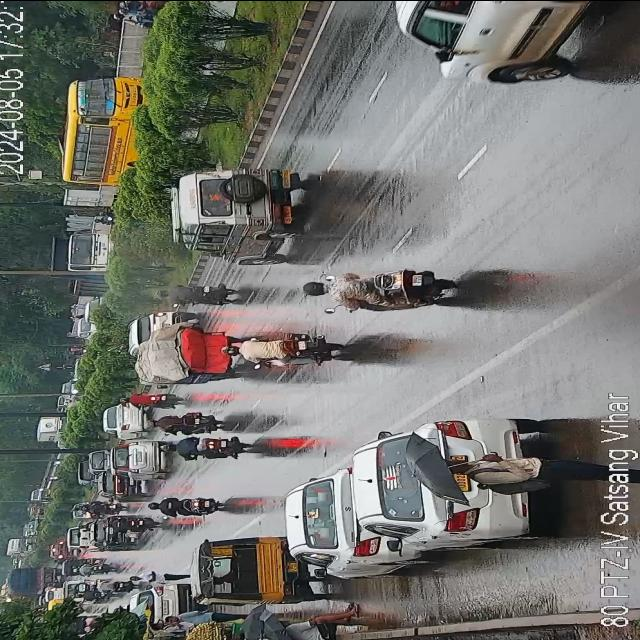2-wheelers: (303, 265, 452, 310), (225, 330, 346, 364), (151, 489, 223, 519), (160, 434, 242, 459), (148, 408, 222, 434), (164, 277, 234, 304), (109, 0, 171, 25), (99, 516, 159, 530), (82, 502, 126, 514), (90, 581, 138, 591), (74, 564, 114, 574), (76, 591, 122, 599), (93, 210, 113, 225), (68, 344, 85, 356), (44, 474, 59, 480), (48, 459, 62, 464)
auto: (193, 531, 297, 603), (136, 331, 228, 386), (65, 556, 96, 566), (28, 506, 46, 516)
bus: (64, 72, 150, 192)
car: (356, 416, 540, 551), (398, 0, 640, 78), (184, 158, 306, 263), (286, 472, 391, 572), (130, 582, 189, 632), (126, 431, 162, 479), (104, 398, 142, 438), (104, 468, 142, 502), (76, 298, 104, 338), (124, 311, 196, 325), (91, 532, 141, 550), (85, 445, 106, 478), (68, 527, 92, 551), (50, 540, 74, 558), (62, 577, 92, 589), (45, 586, 66, 600), (70, 511, 92, 520), (32, 487, 48, 498)
pedestrian: (444, 448, 592, 489), (277, 607, 355, 640), (165, 606, 238, 628), (128, 391, 182, 409), (126, 571, 191, 583), (152, 622, 184, 630), (72, 304, 84, 308)
truck: (51, 232, 113, 295), (10, 565, 57, 594), (34, 420, 66, 440)
